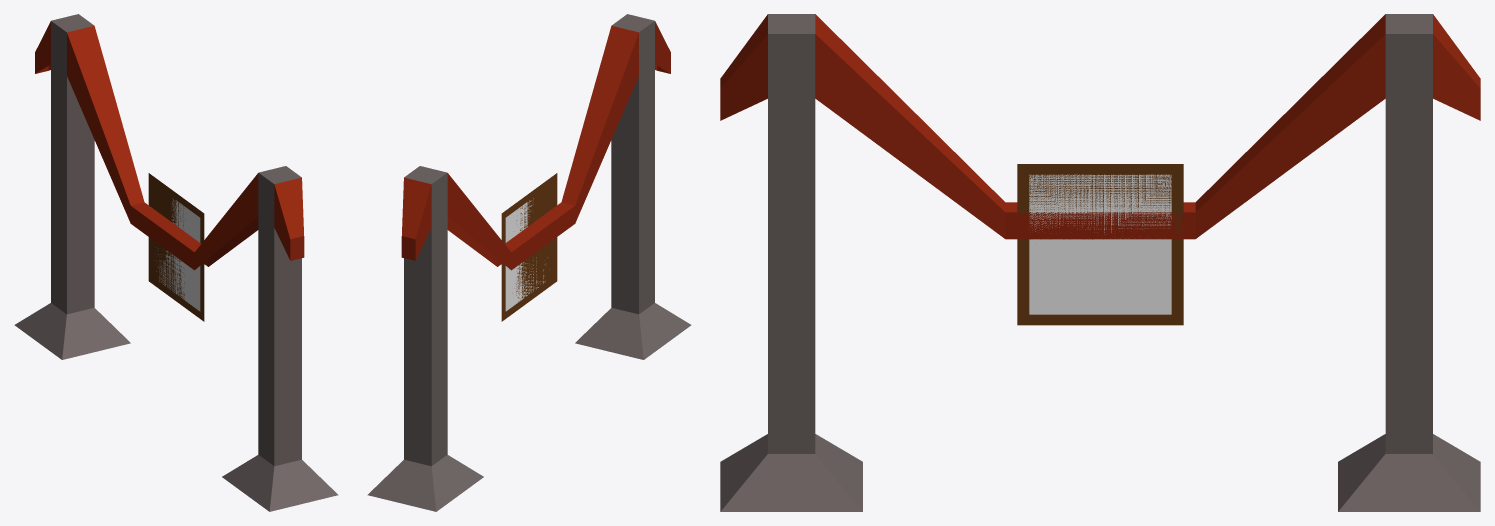
3 views of the same model, side by side, from view 1: azimuth 30°, elevation 25°; view 2: azimuth 150°, elevation 25°; view 3: azimuth 270°, elevation 25° (orthographic). The views are drawn at different scales.
Size of the model in its own units: 0.1562 by 0.6719 by 1.
